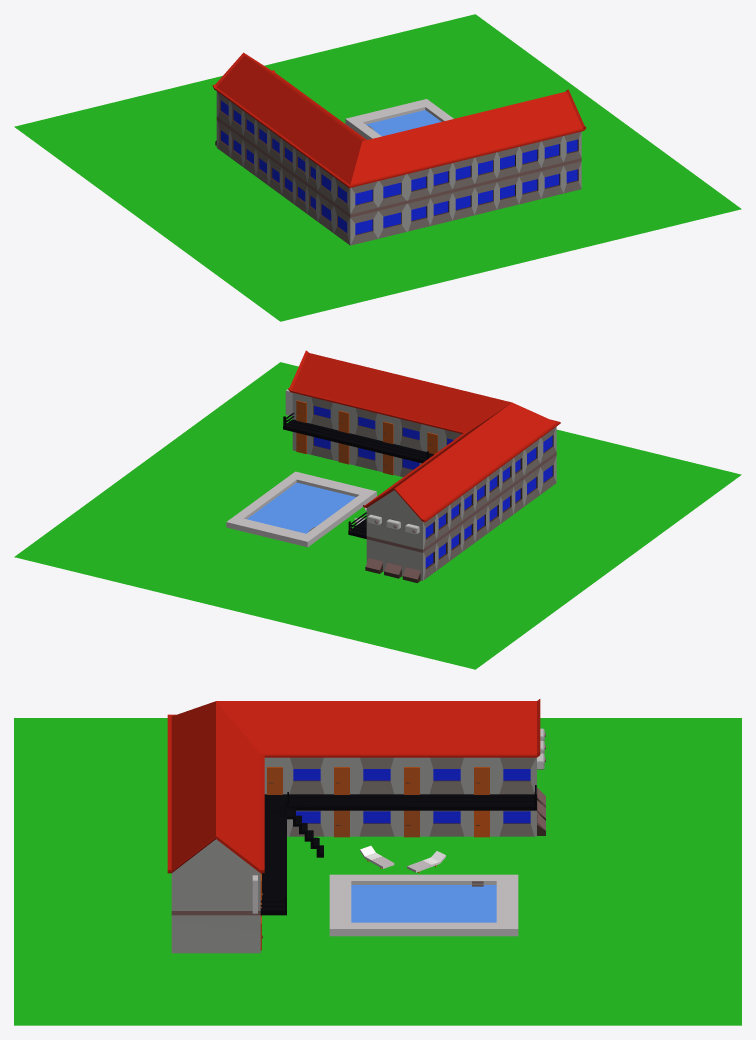
The model's file is 2 Motel.fbx.
3 renders of one model, top to bottom at view 1: azimuth 30°, elevation 25°; view 2: azimuth 150°, elevation 25°; view 3: azimuth 270°, elevation 25°, orthographic. The views are drawn at different scales.
Visible parts, largest first — view 1: Plane.003, Cube.012; view 2: Plane.003, Cube.012; view 3: Plane.003, Cube.012.
Part boxes in pixels (left/top/right/bottom): Plane.003: left=14, top=14, right=741, bottom=321; Cube.012: left=212, top=52, right=586, bottom=245; Plane.003: left=14, top=362, right=741, bottom=669; Cube.012: left=226, top=350, right=560, bottom=583; Plane.003: left=14, top=718, right=741, bottom=1025; Cube.012: left=167, top=699, right=545, bottom=953.
Size of the model in its own units: 1002 by 187 by 1002.
